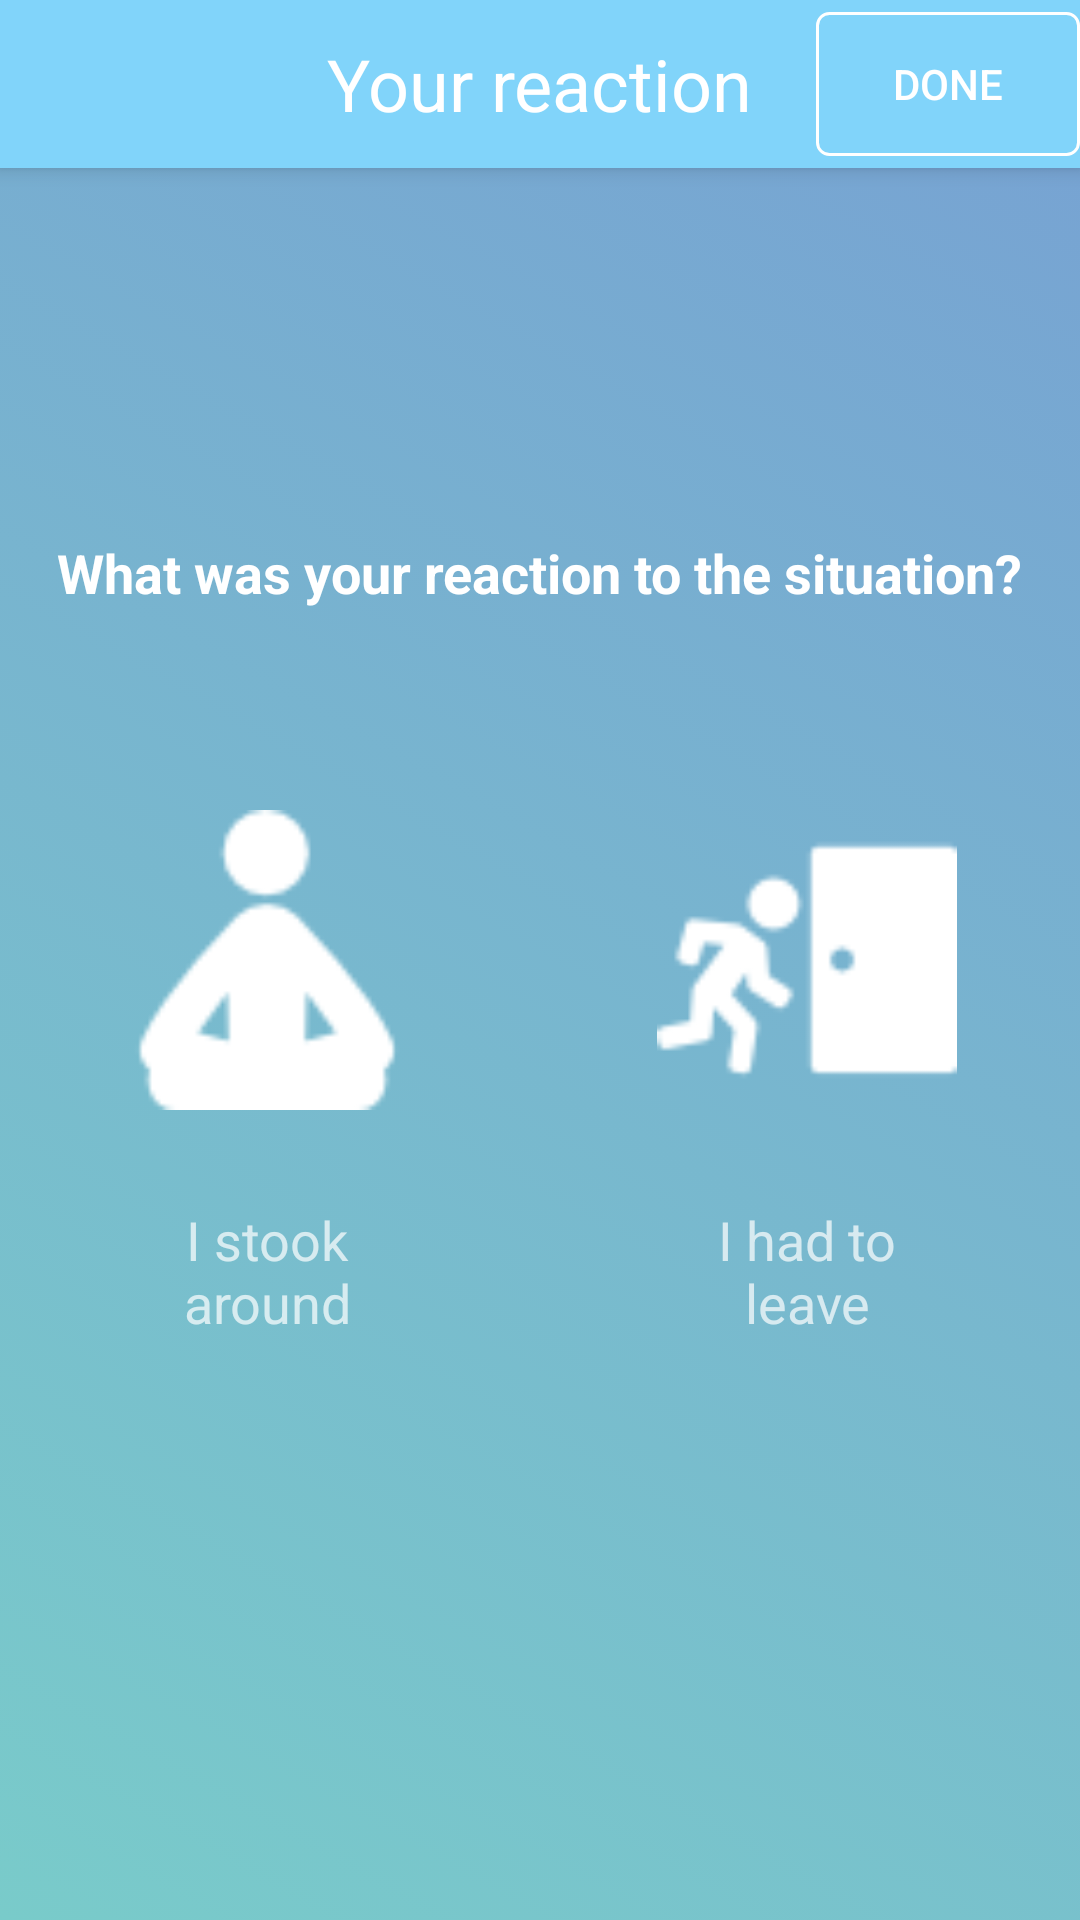

Where icons sit on this 1080px×1920px app screen, as box=[x1, y1, x2, y2]:
stay: box=[139, 810, 395, 1110]
